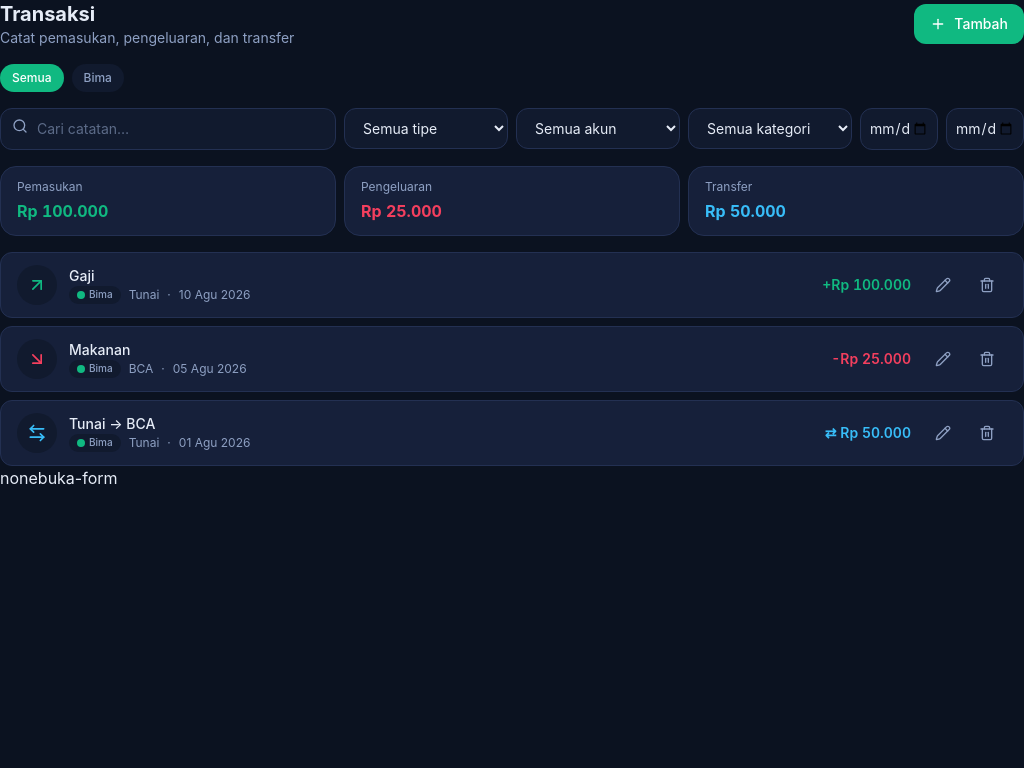
Test: TransactionsPage › deletes a transaction through the confirm dialog
The width and height of the screenshot is (1024, 768).
Expected: the text "+Rp 100.000" is shown, x1=822 y1=275 x2=911 y2=295
Click the button named "Hapus" in the row of "10 Agu 2026".
click(987, 285)  # box x1=967 y1=271 x2=1007 y2=299
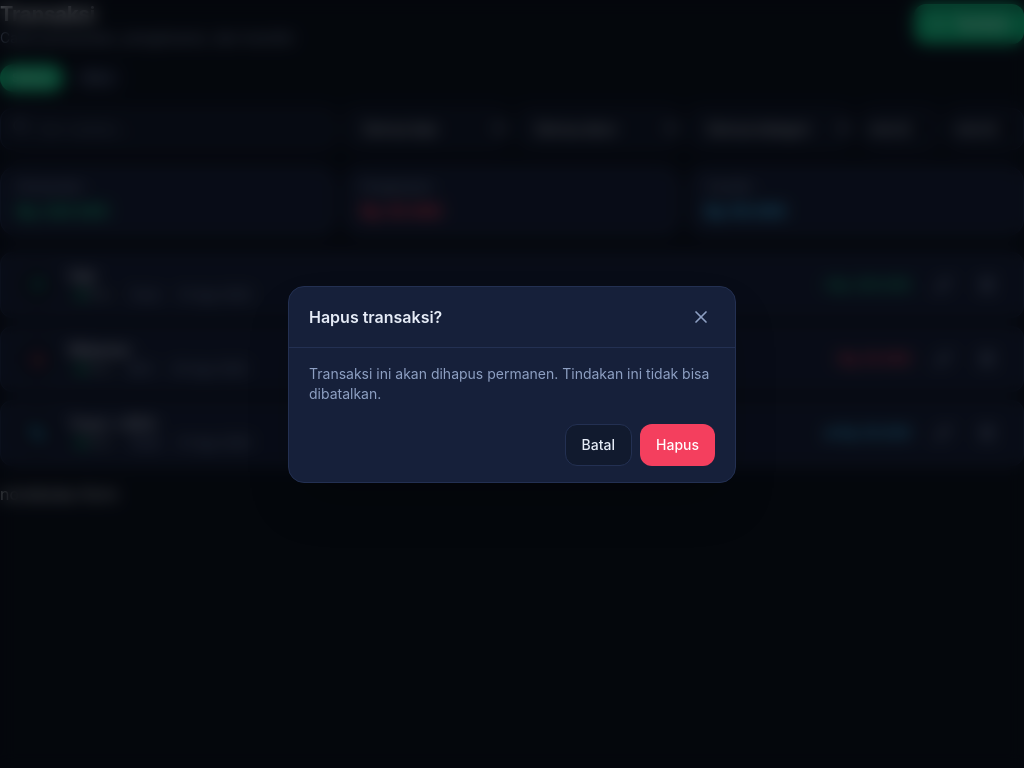
Now the heading "Hapus transaksi?" is shown, box x1=309 y1=304 x2=442 y2=328
Click the button "Hapus".
click(678, 444)  # box x1=640 y1=424 x2=715 y2=466
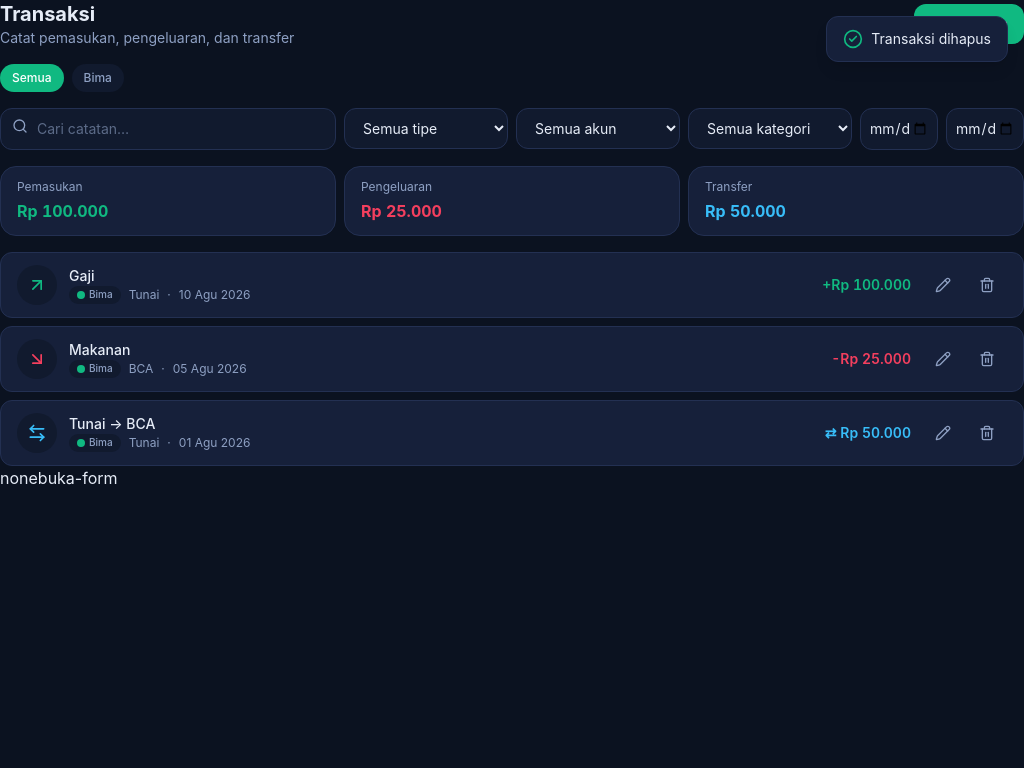
Now the text "Transaksi dihapus" is shown, box x1=871 y1=29 x2=991 y2=49
